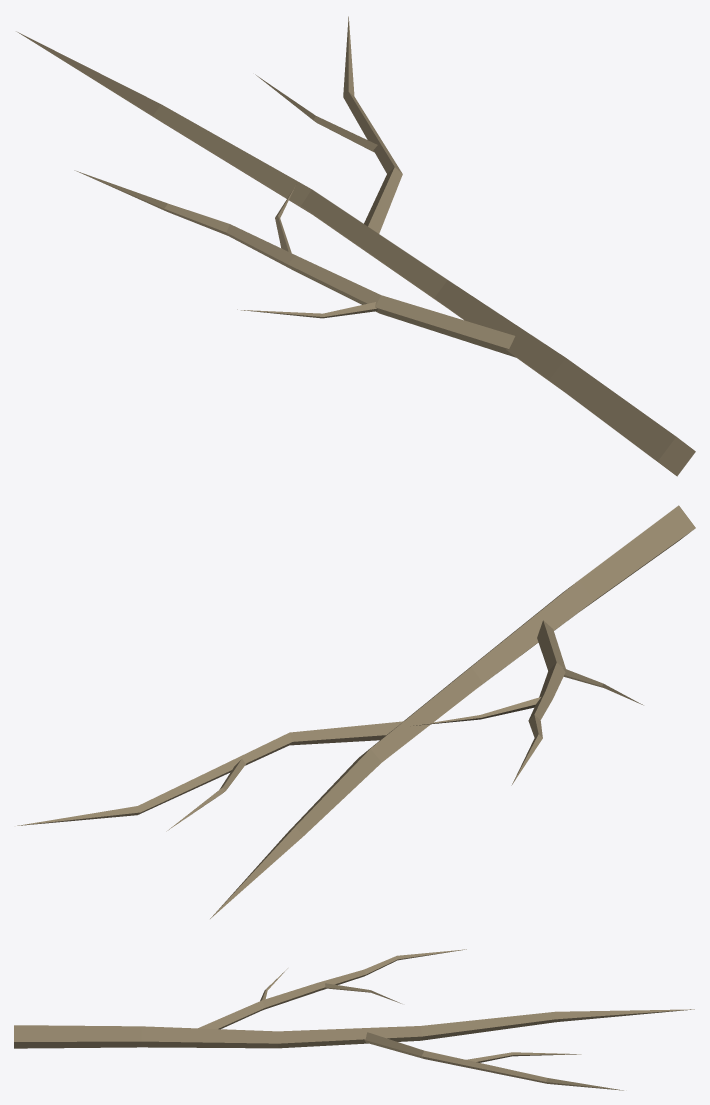
Rendered from EnvBranch_2.fbx.
The picture shows the model from 3 angles, top to bottom: view 1: azimuth 30°, elevation 25°; view 2: azimuth 150°, elevation 25°; view 3: azimuth 270°, elevation 25°; orthographic projection. The views are drawn at different scales.
Visible parts, largest first — view 1: EnvBranch_2; view 2: EnvBranch_2; view 3: EnvBranch_2.
Part boxes in pixels (left/top/right/bottom): EnvBranch_2: left=16, top=16, right=695, bottom=476; EnvBranch_2: left=17, top=505, right=695, bottom=918; EnvBranch_2: left=14, top=949, right=694, bottom=1090.
Size of the model in its own units: 140 by 24.03 by 348.
